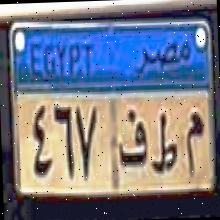4: (28, 100, 53, 176)
6: (54, 104, 74, 180)
7: (73, 102, 103, 182)
Taa: (148, 104, 178, 181)
faa: (116, 106, 148, 170)
meem: (178, 102, 206, 178)
